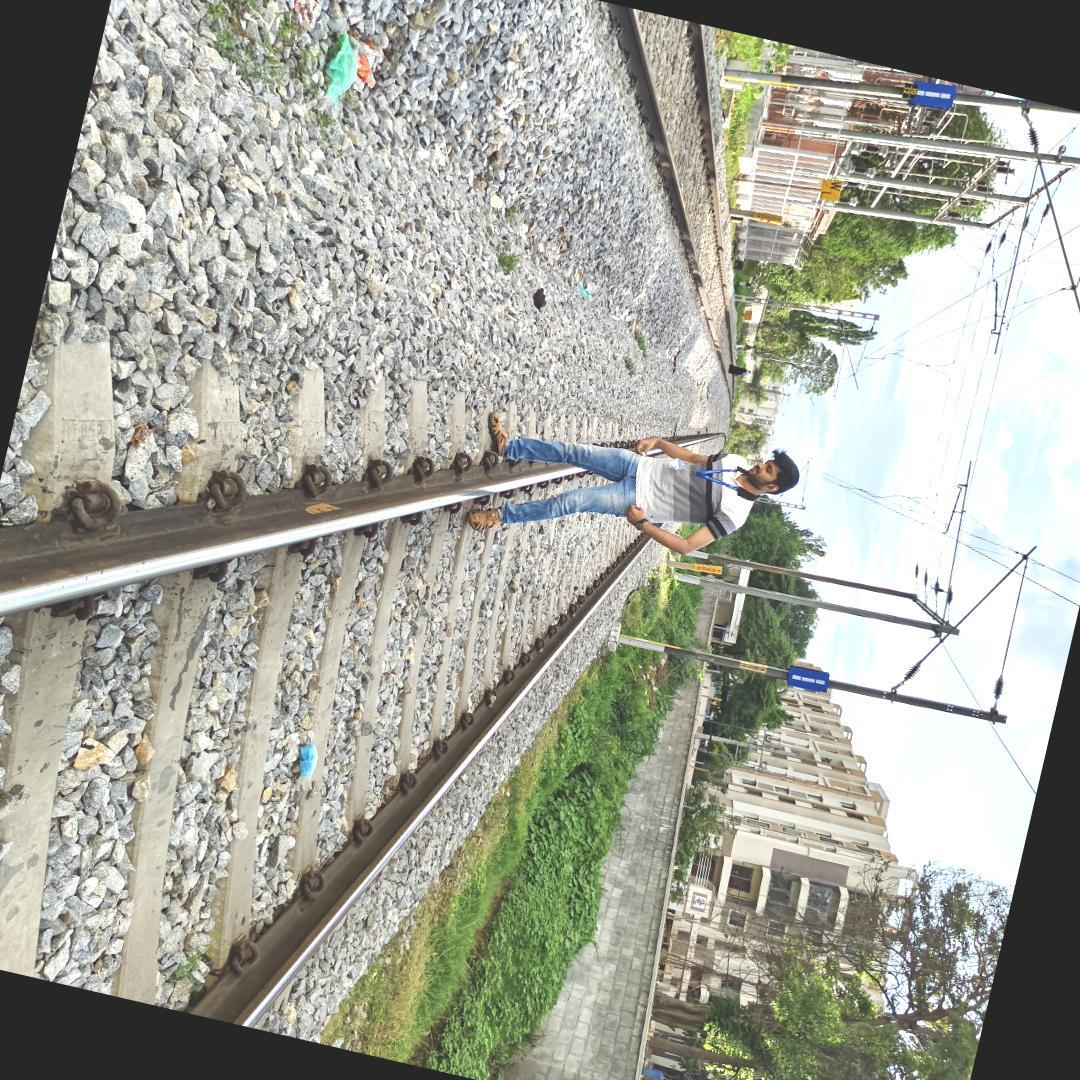standing: (446, 368, 812, 608)
